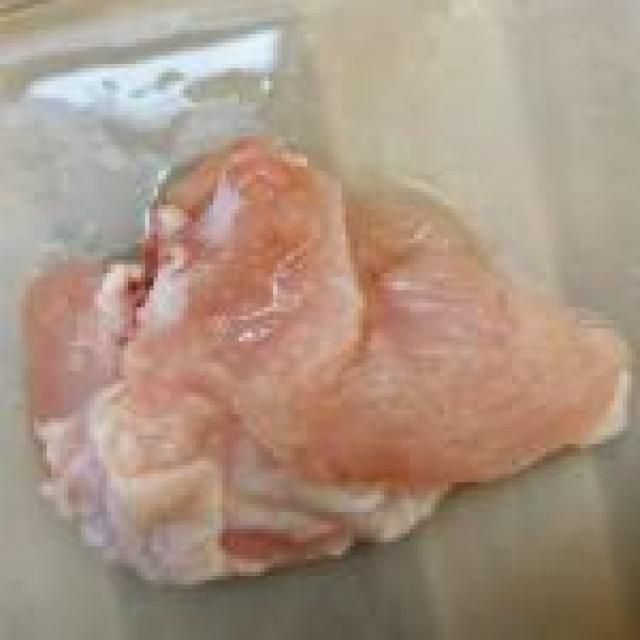breast: (8, 131, 636, 580)
